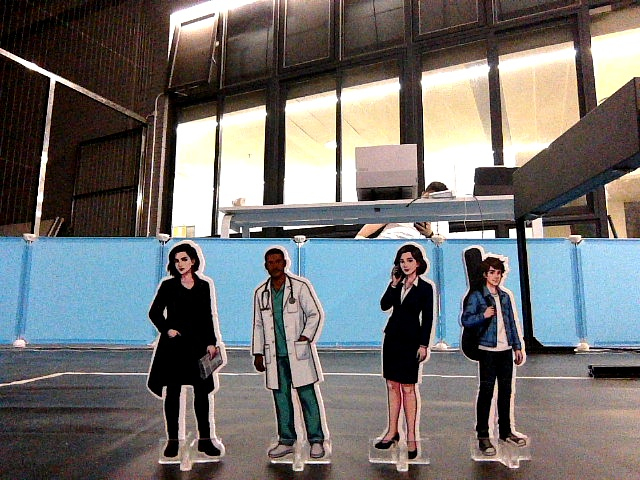community_person: (139, 232, 233, 475), (453, 236, 541, 473), (246, 237, 334, 473), (368, 238, 444, 475)
